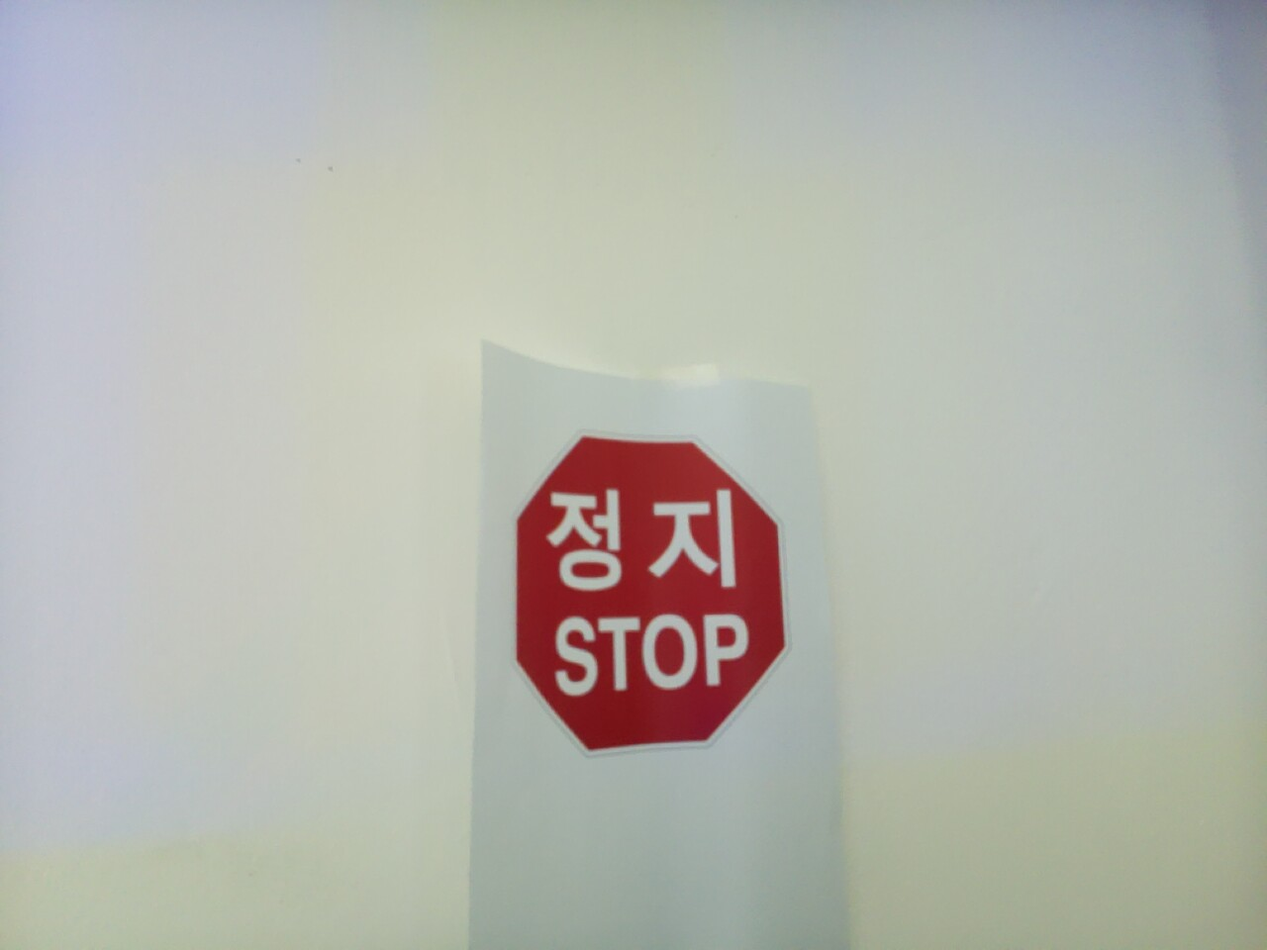stop: (507, 427, 794, 760)
